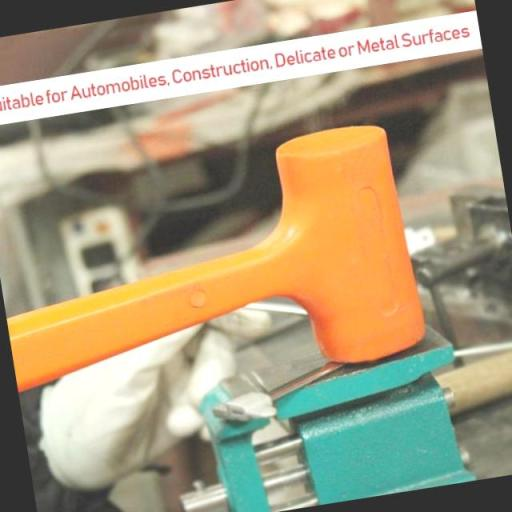mallet: (0, 119, 430, 415)
